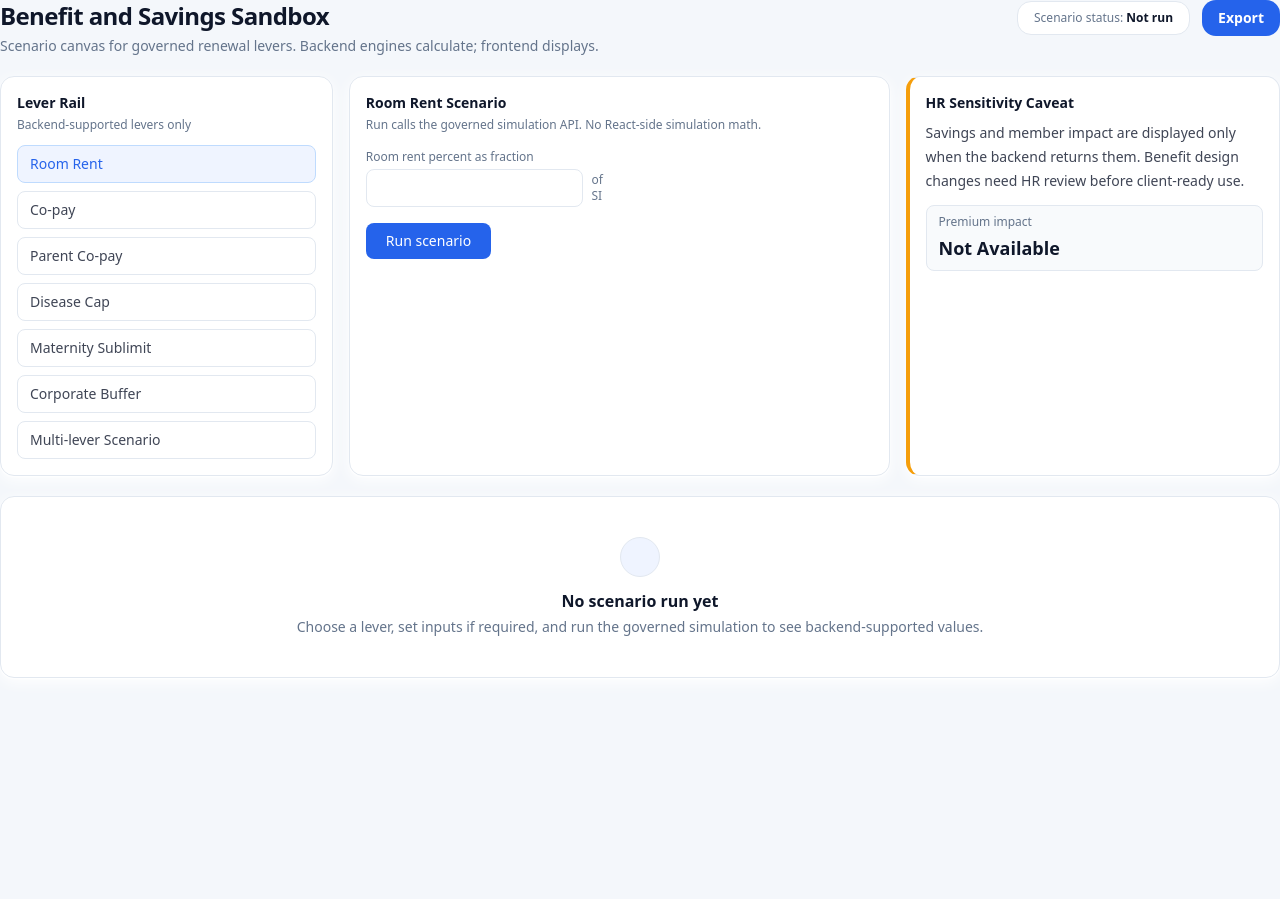
Savings Sandbox (API-driven) › multi-lever scenario renders API response
Click the button with test id "lever-scenario".
click(95, 440)  # box x1=17 y1=421 x2=316 y2=459
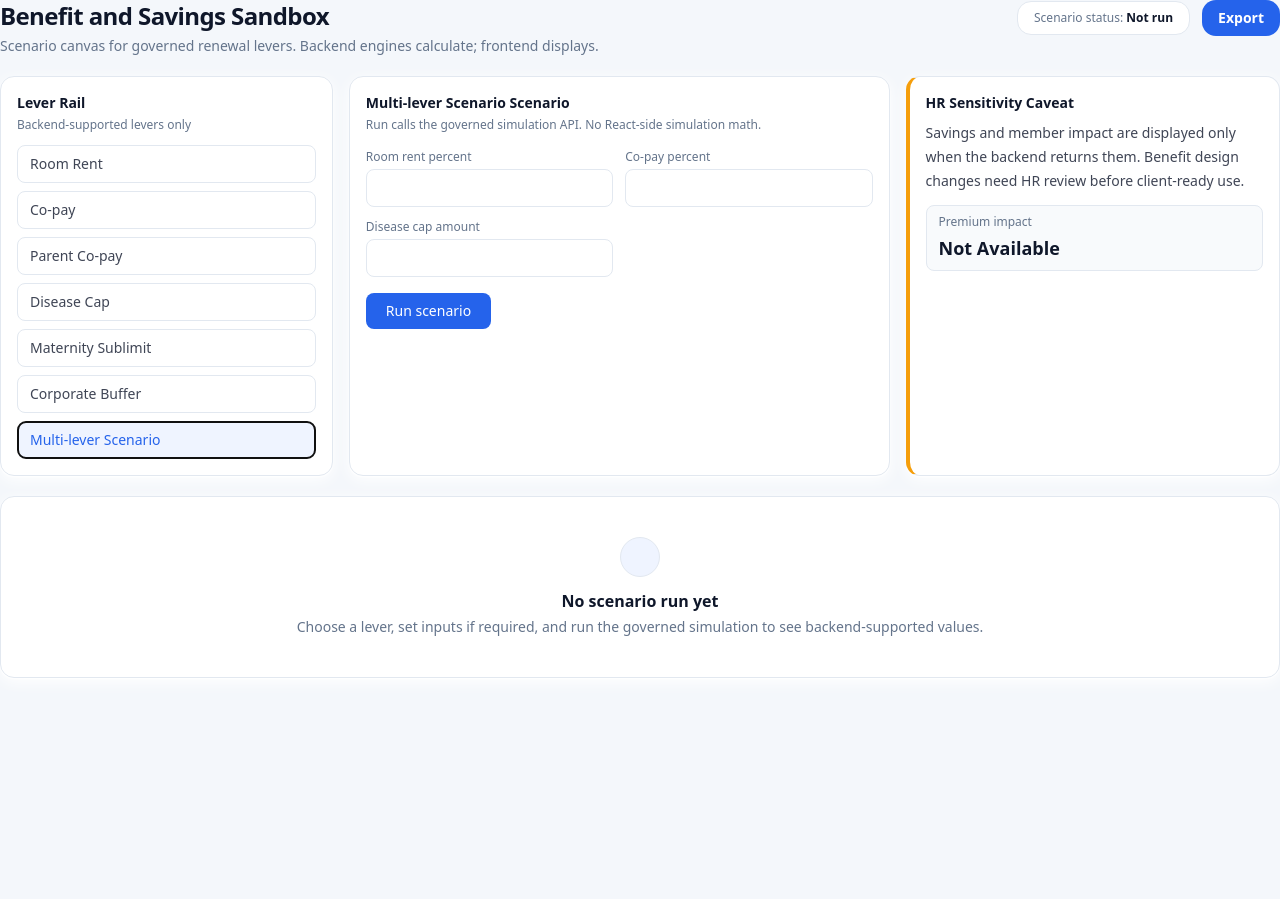
Click the button with test id "run-scenario".
click(428, 311)  # box x1=366 y1=293 x2=491 y2=329
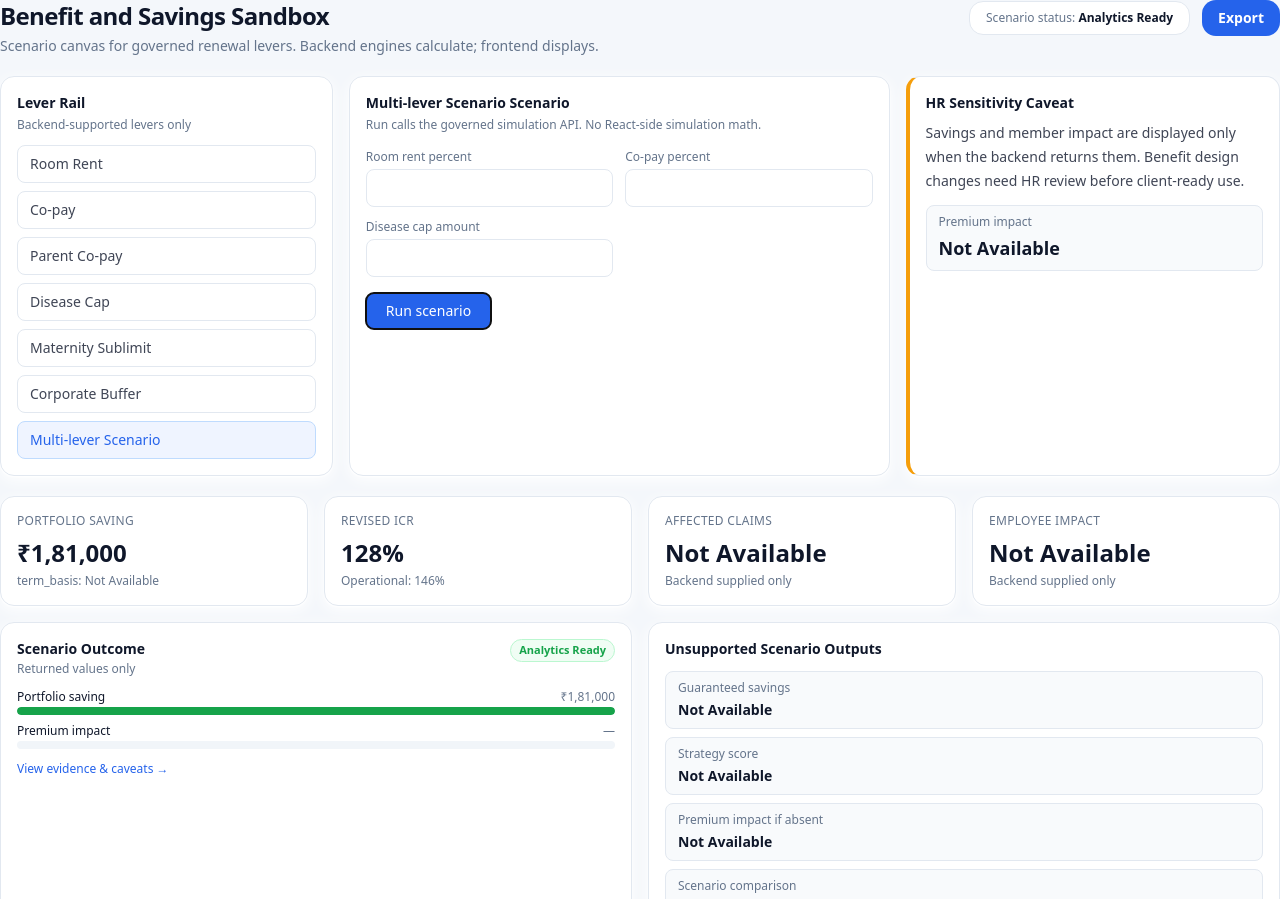
Now the element with test id "portfolio-saving" shows "1,81,000", box x1=17 y1=536 x2=127 y2=569
Now the element with test id "revised-icr" shows "128%", box x1=341 y1=536 x2=404 y2=569
